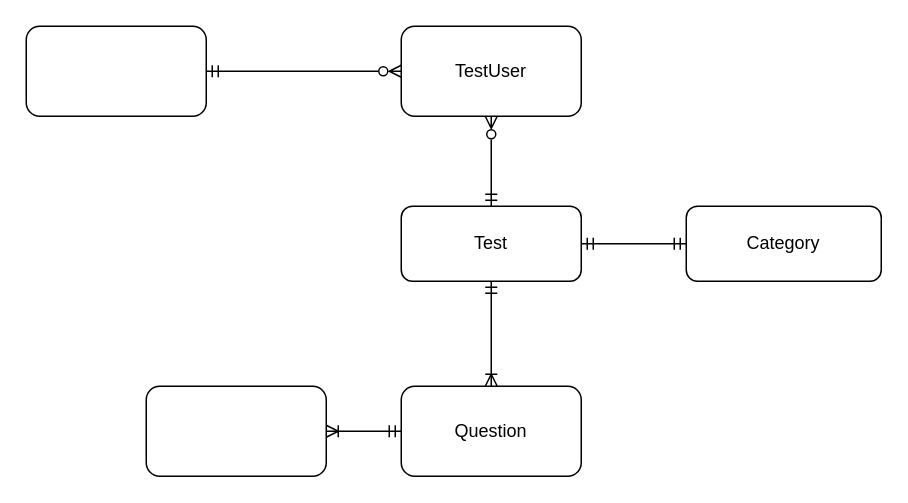
Some shapes in this 908 by 503 pixel diagram are drawn without their labels. The centre of each missing label's shape, as x and y in pixels:
Answer: the point at 235,430
User: the point at 115,70
